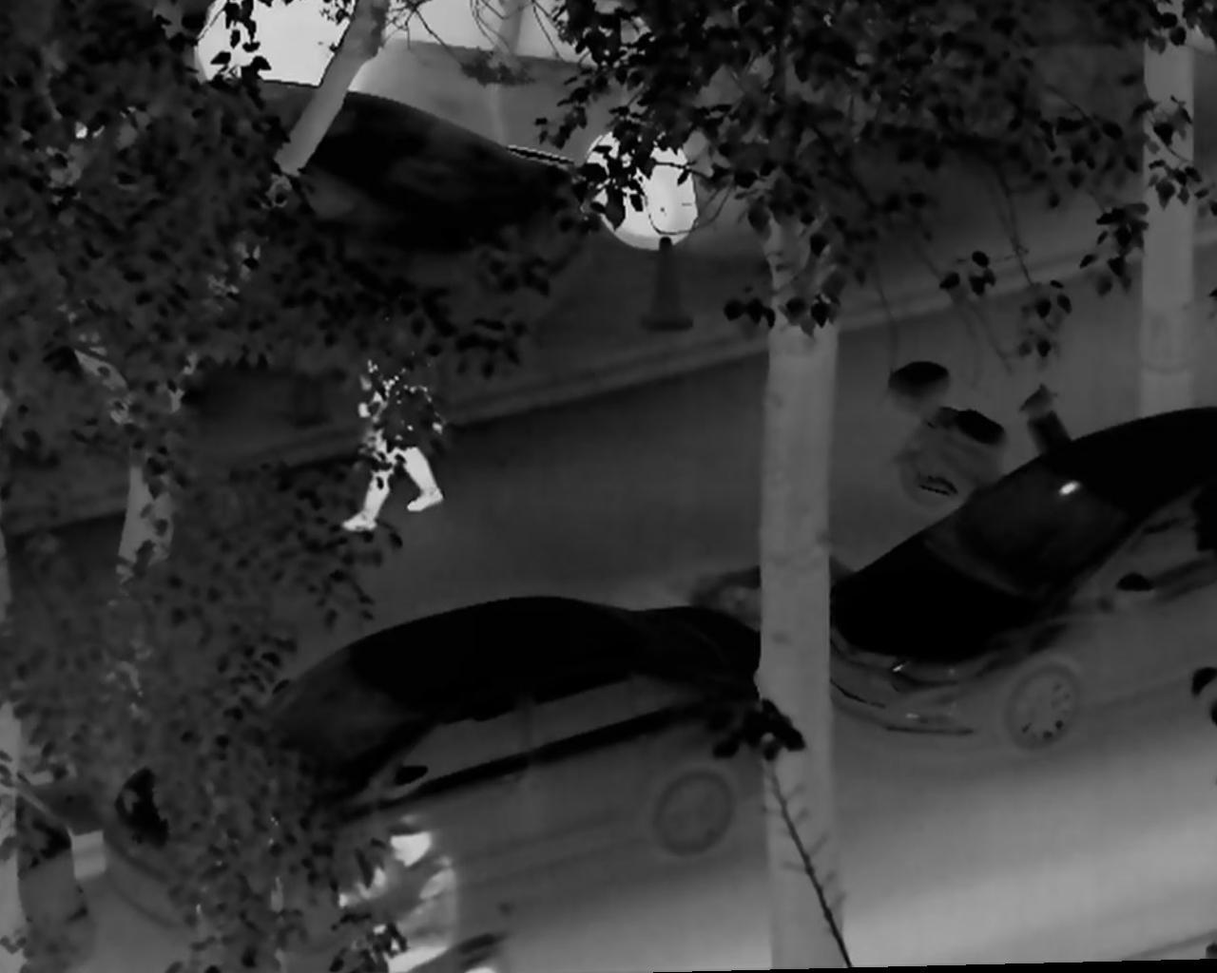person: (330, 336, 449, 541), (331, 811, 461, 973)
